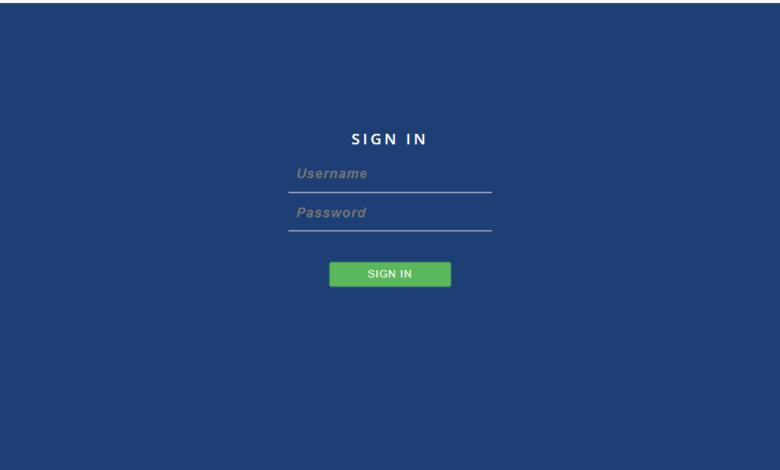button: (329, 263, 453, 290)
input: (288, 193, 496, 231), (288, 159, 496, 195)
